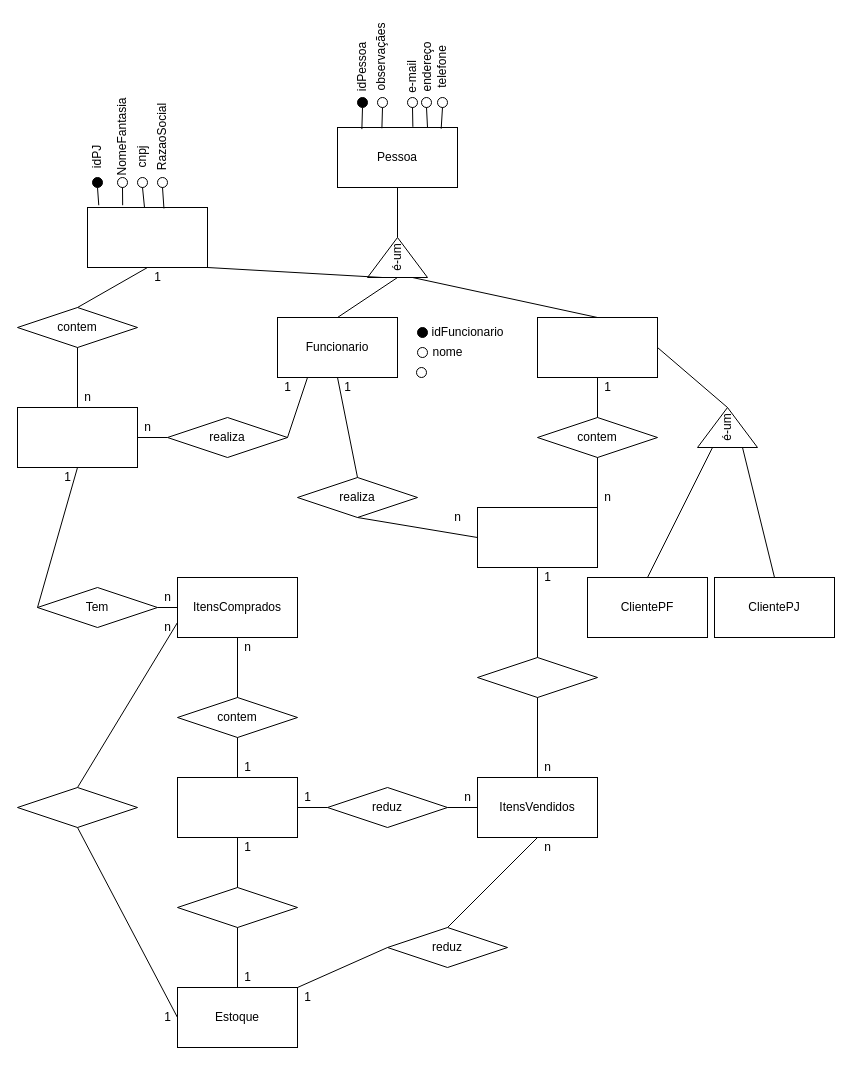
This 852x1065 diagram has some shape labels left out. The shapes that lost their labels are listed below. From the top down, each one's centre as x and y in pixels, then its label:
the point at 147,237: Fornecedor
the point at 597,347: Cliente
the point at 77,437: Compra
the point at 537,537: Venda
the point at 537,677: possui
the point at 77,807: aumenta
the point at 237,807: Iten
the point at 237,907: armazena
